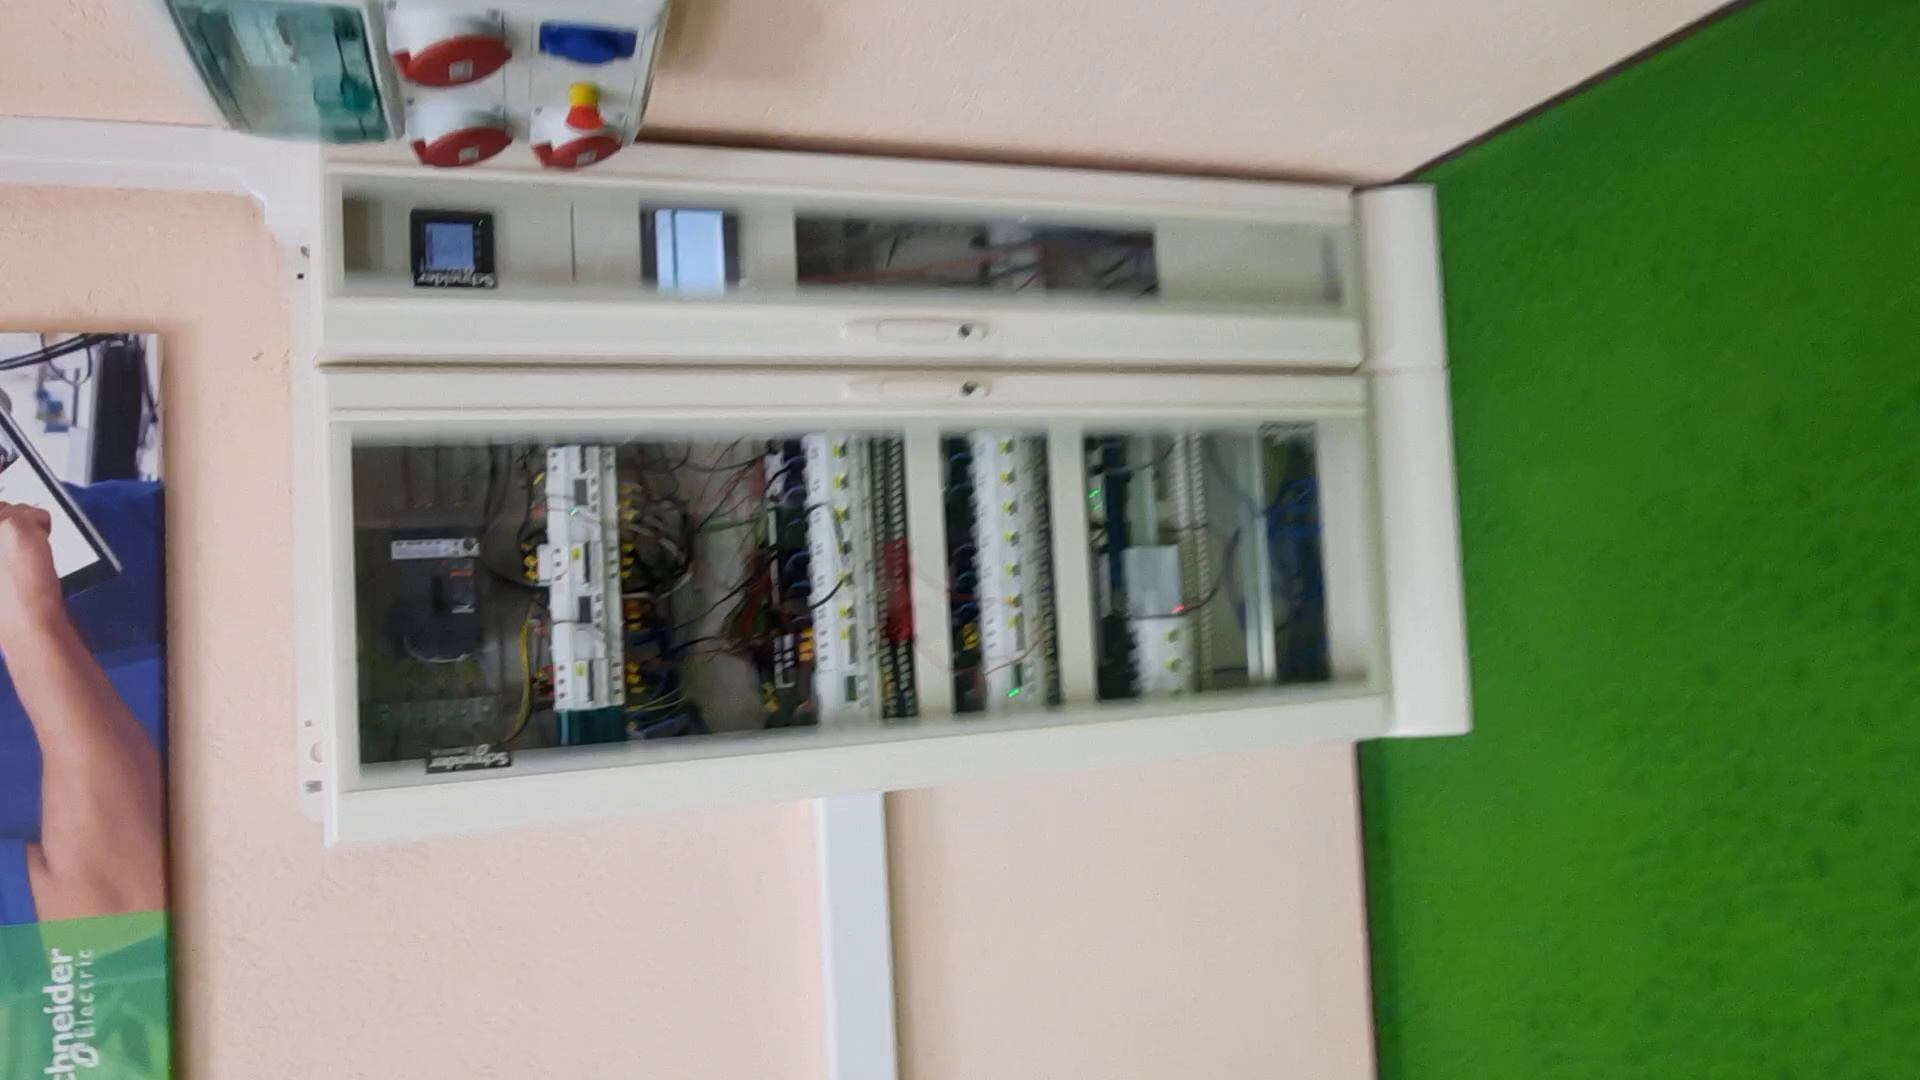stand1: (314, 119, 1476, 841)
